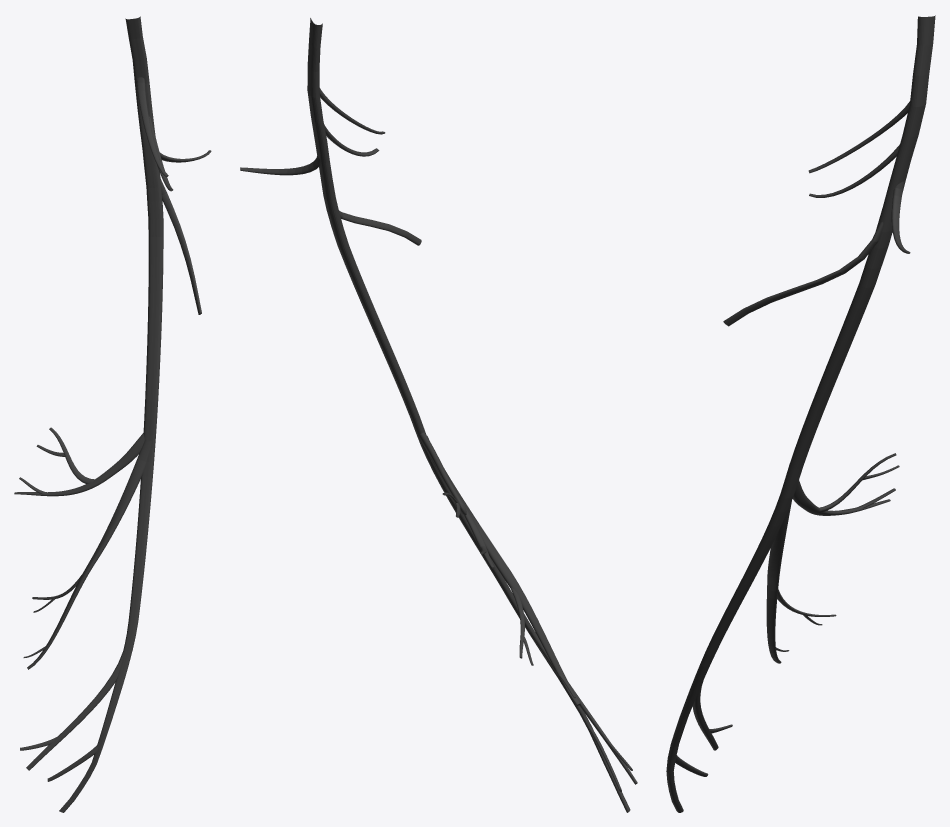
File: N_5_trigeminus_mandibular_lingual.glb
3 views of the same model, side by side, from view 1: azimuth 30°, elevation 25°; view 2: azimuth 150°, elevation 25°; view 3: azimuth 270°, elevation 25° (orthographic). The views are drawn at different scales.
Parts seen in each view (by area): view 1: N_5_trigeminus_mandibular_lingual; view 2: N_5_trigeminus_mandibular_lingual; view 3: N_5_trigeminus_mandibular_lingual.
Part boxes in pixels (bbox=[...]): N_5_trigeminus_mandibular_lingual: bbox=[14, 16, 211, 812]; N_5_trigeminus_mandibular_lingual: bbox=[240, 18, 637, 812]; N_5_trigeminus_mandibular_lingual: bbox=[666, 15, 935, 812].
Bounding box in the file's own units: 0.0197 × 0.0502 × 0.0135.
Materials: 1 (1 with a texture image).
